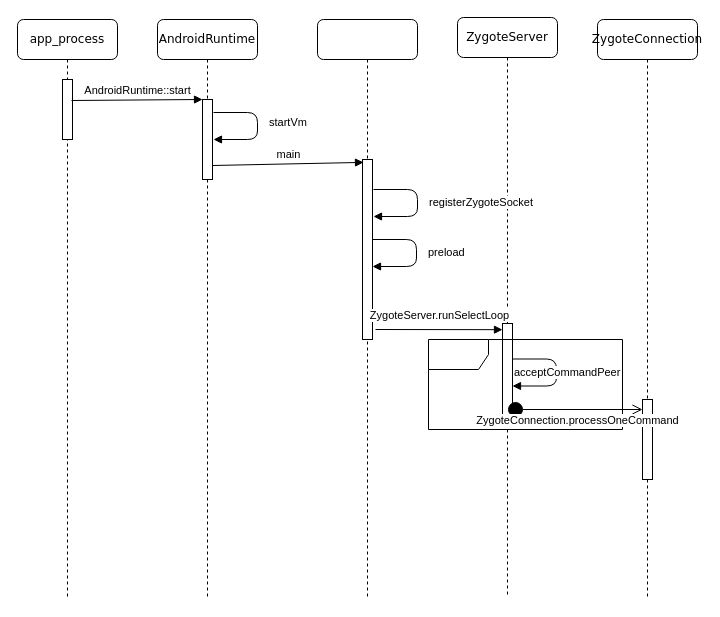
Image size: 720x617. Some labels were removed from this diagram. Here are the shapes that lost their labels. From the top down, the centre of each, then its label:
At (367,309): "ZygoteInit".
At (525,384): "loop".
